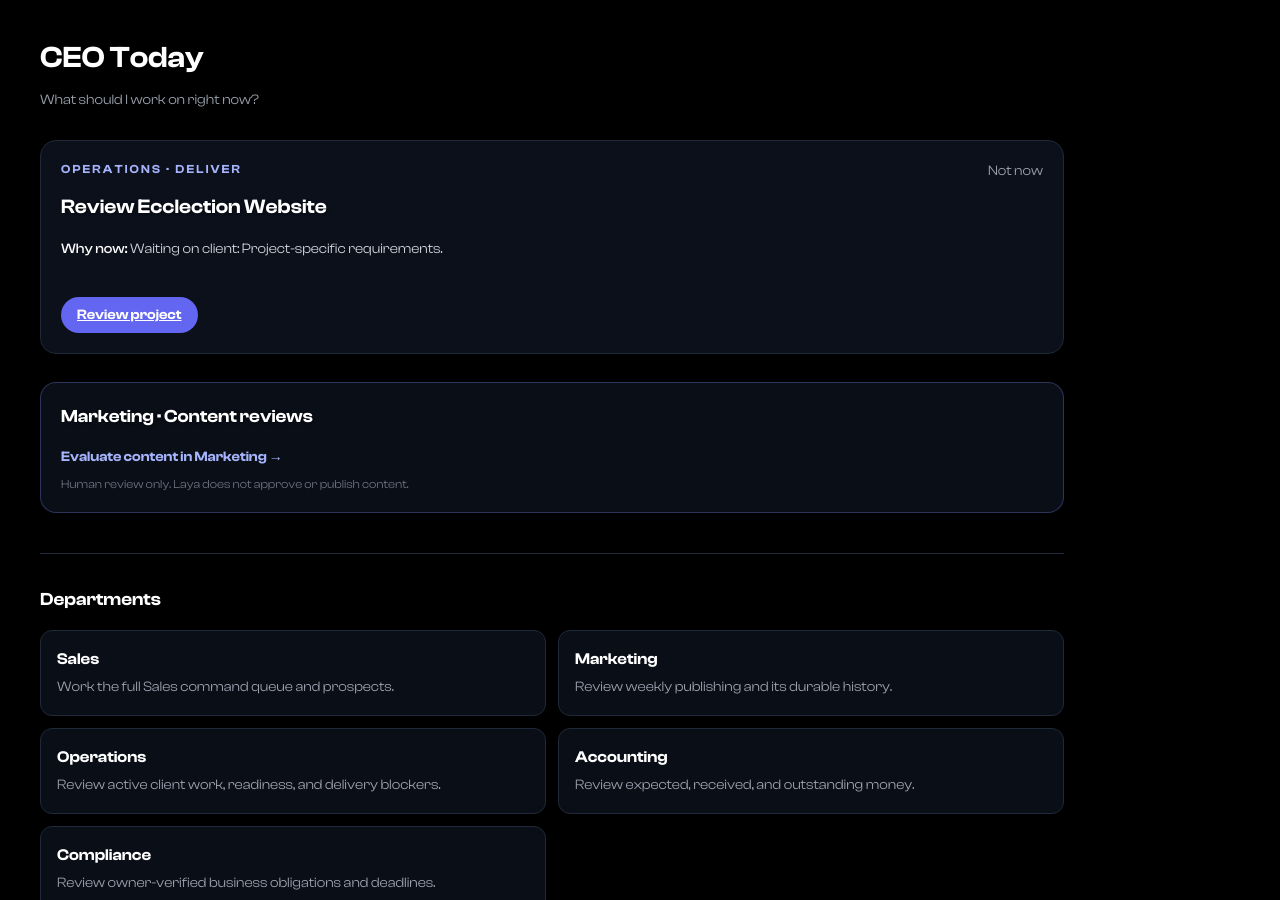
AdminOverview CEO Today › renders an Operations DELIVER card without mutating its source state when set aside
Expected: the heading "Review Ecclection Website" is shown, [61,193,327,221]
Expected: the text "Waiting on client: Project-specific requirements." is shown, [130,241,443,257]
Click the button "Not now".
click(1015, 171)  # box [988,161,1043,181]
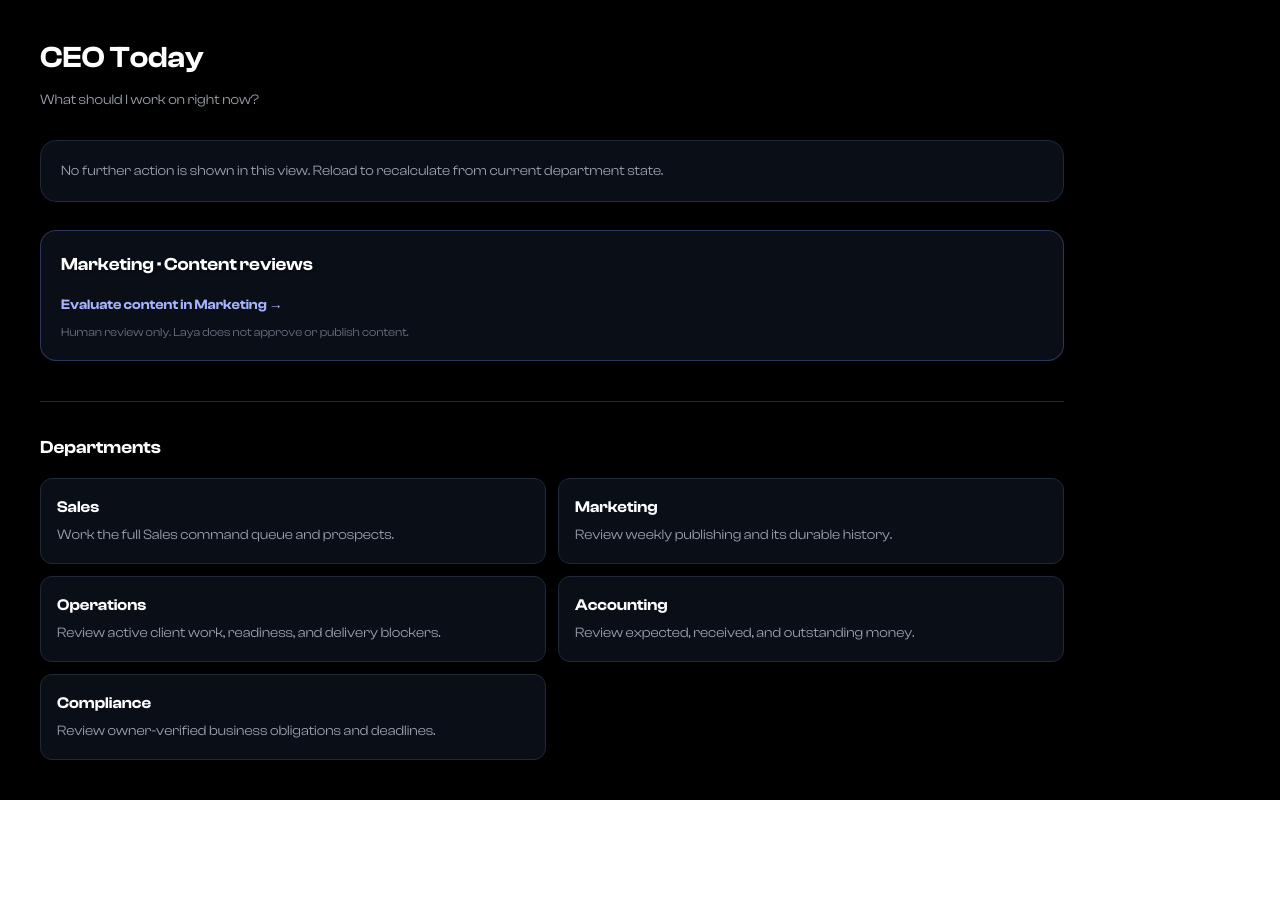
Now the heading "Review Ecclection Website" is gone
